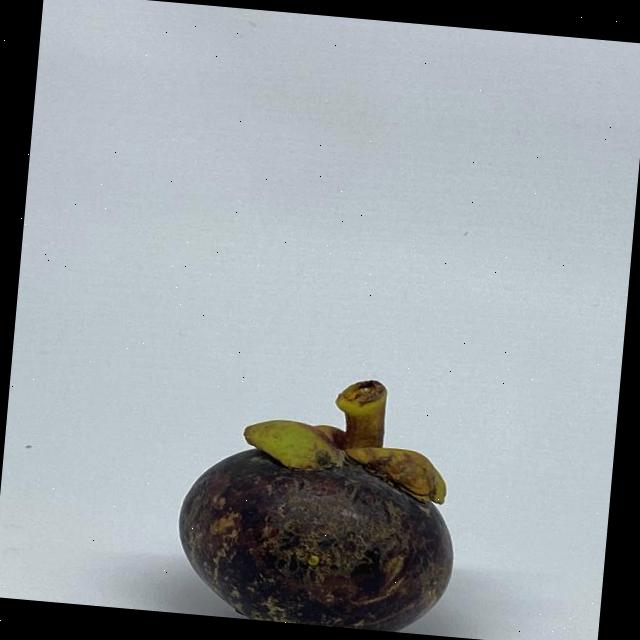mangosteen: (142, 350, 504, 640)
